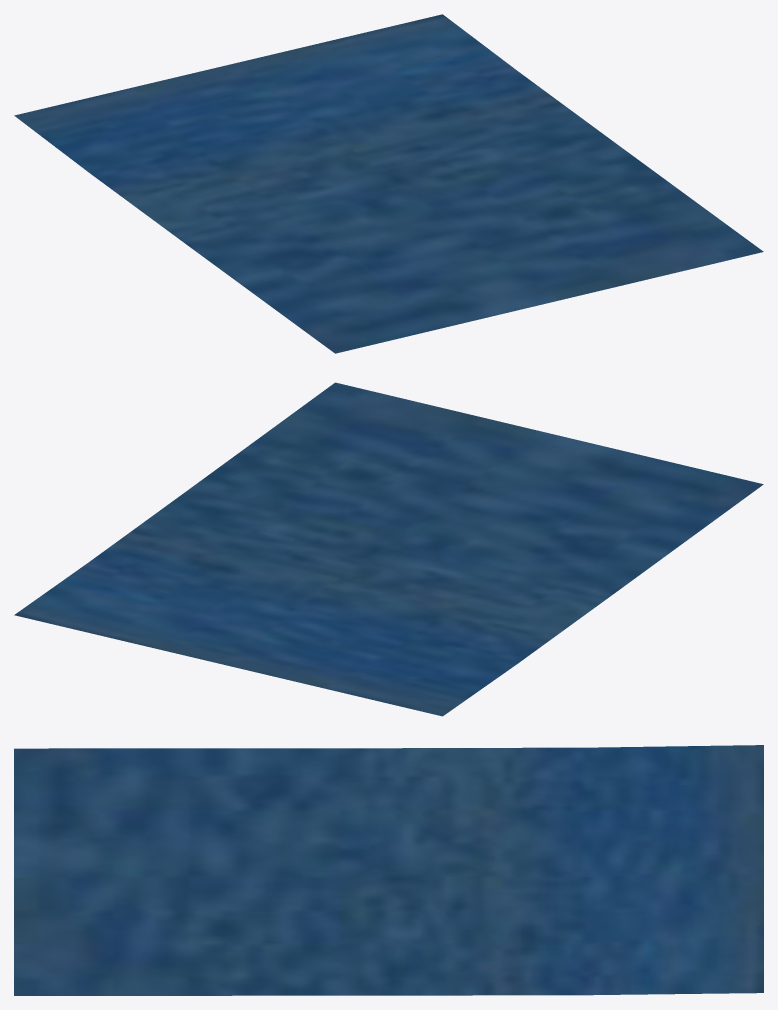
File: Waterfall.fbx
3 renders of one model, top to bottom at view 1: azimuth 30°, elevation 25°; view 2: azimuth 150°, elevation 25°; view 3: azimuth 270°, elevation 25°, orthographic. The views are drawn at different scales.
Parts seen in each view (by area): view 1: Waterfall001; view 2: Waterfall001; view 3: Waterfall001.
Part boxes in pixels (bbox=[...]): Waterfall001: bbox=[14, 14, 763, 353]; Waterfall001: bbox=[14, 382, 763, 716]; Waterfall001: bbox=[14, 745, 763, 995].
Bounding box in the file's own units: 808 × 10.4 × 1049.
Materials: 1 (1 with a texture image).
